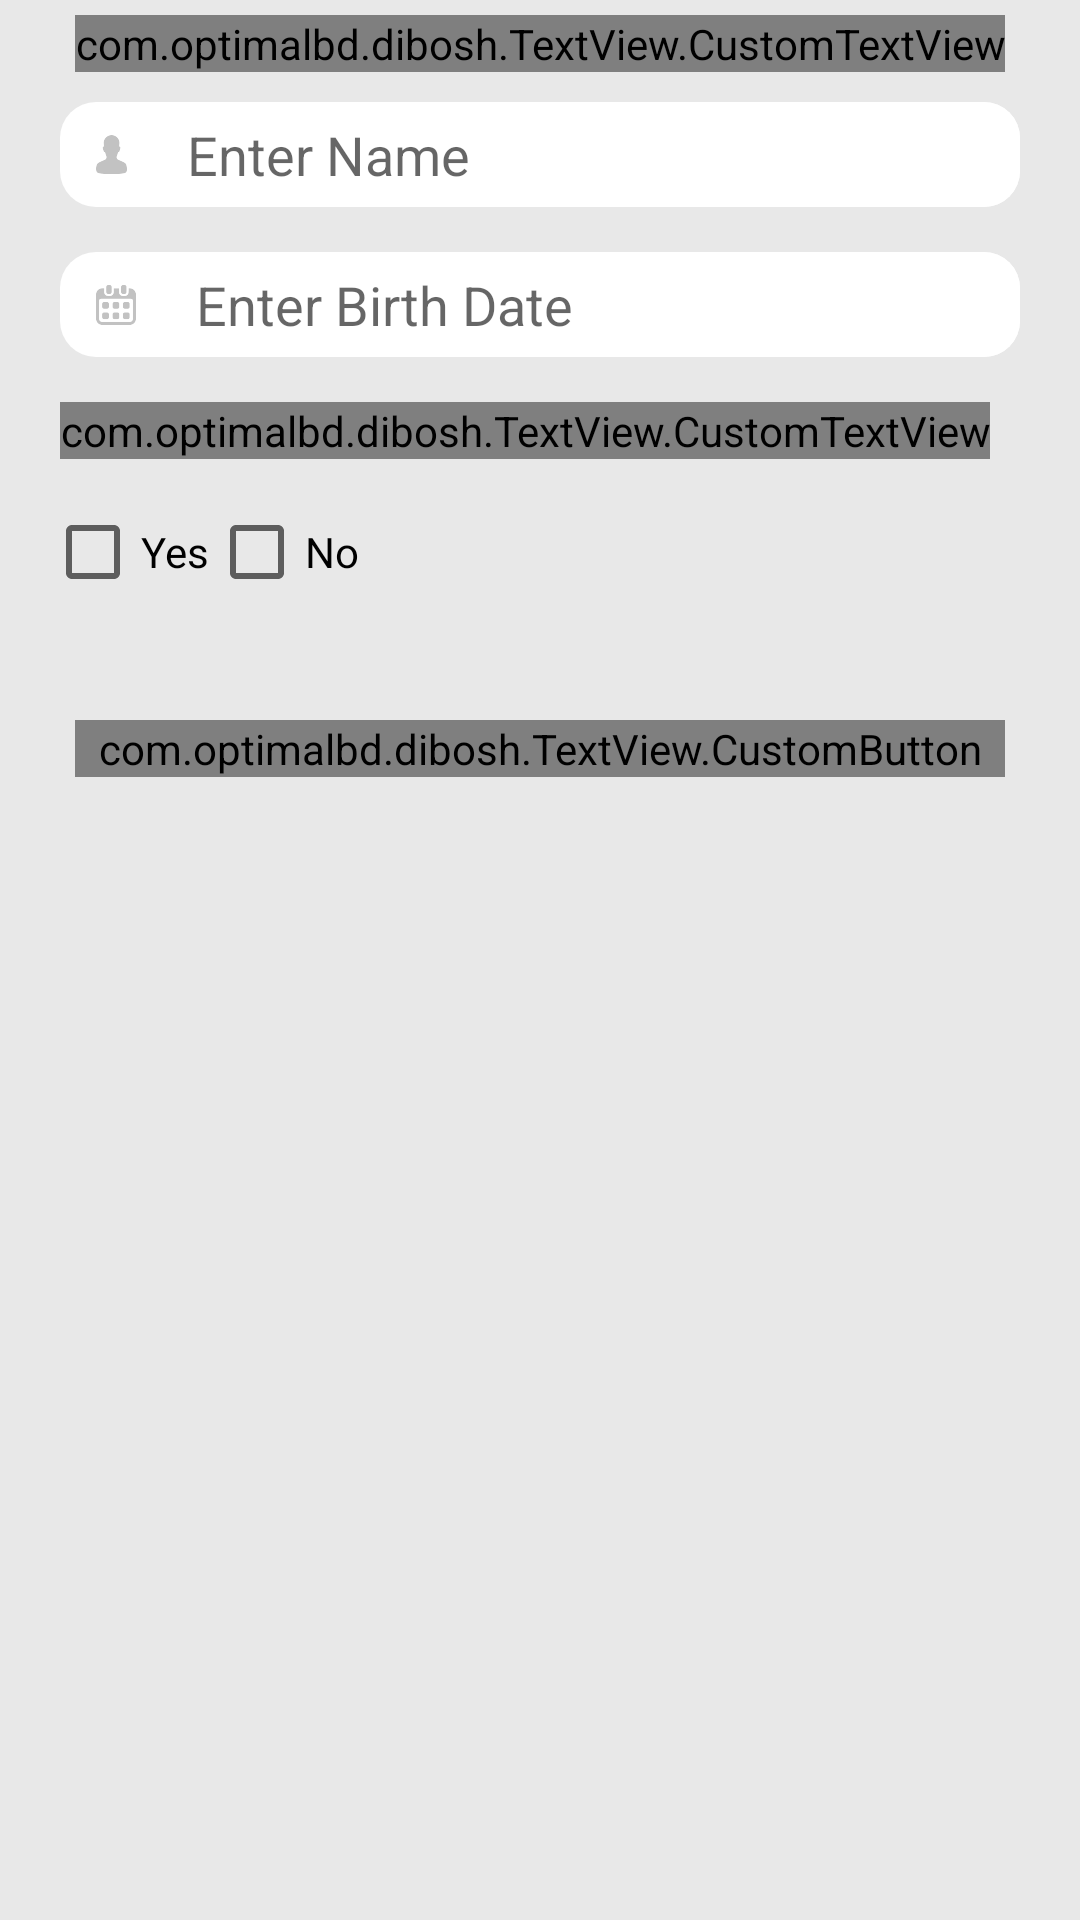

Icon bounding boxes for this 1080x1920 phone screenshot, format [x1,y1,x2,y2]:
even man: [96,135,127,174]
event date: [96,285,136,325]
